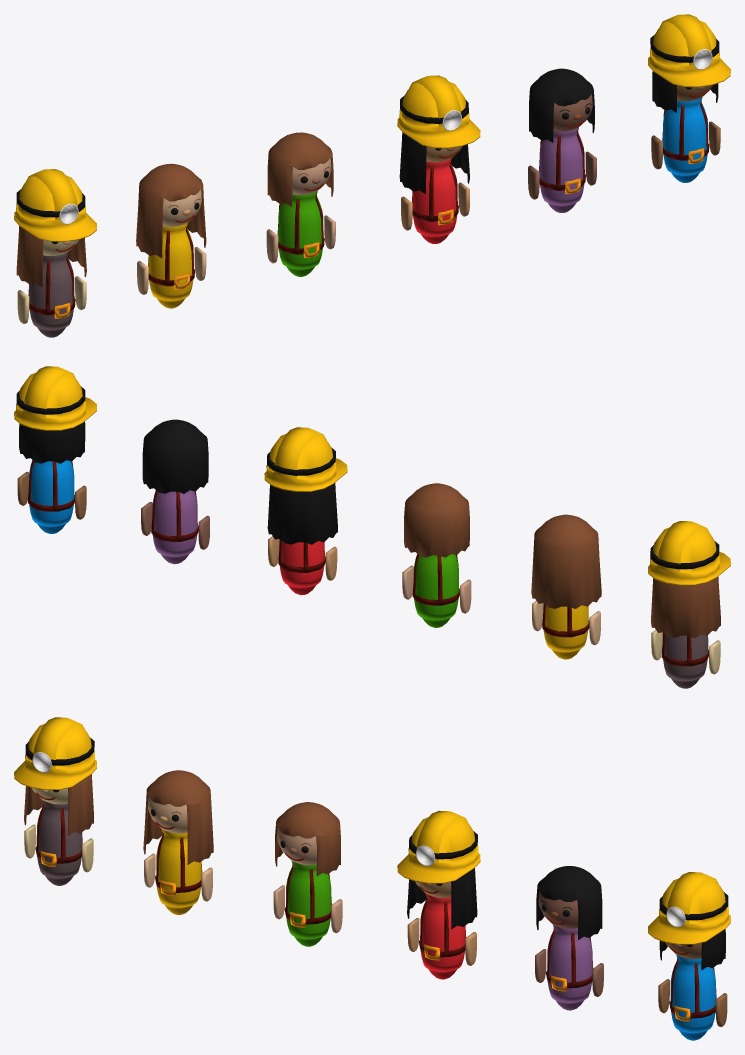
The model's file is Mineradoras.fbx.
The picture shows the model from 3 angles, top to bottom: view 1: azimuth 30°, elevation 25°; view 2: azimuth 150°, elevation 25°; view 3: azimuth 330°, elevation 25°; orthographic projection.
Parts seen in each view (by area): view 1: Mineradora 1, Mineradora 4, Mineradora 6, Mineradora 2, Mineradora 3, Mineradora 5; view 2: Mineradora 4, Mineradora 1, Mineradora 6, Mineradora 2, Mineradora 5, Mineradora 3; view 3: Mineradora 1, Mineradora 4, Mineradora 6, Mineradora 2, Mineradora 5, Mineradora 3.
Boxes of the visible parts, left/top/right/bottom form: Mineradora 1: left=14, top=169, right=96, bottom=337; Mineradora 4: left=397, top=75, right=480, bottom=243; Mineradora 6: left=648, top=14, right=730, bottom=182; Mineradora 2: left=136, top=163, right=206, bottom=308; Mineradora 3: left=266, top=132, right=335, bottom=276; Mineradora 5: left=528, top=68, right=596, bottom=212; Mineradora 4: left=264, top=427, right=347, bottom=595; Mineradora 1: left=648, top=521, right=730, bottom=688; Mineradora 6: left=14, top=366, right=96, bottom=533; Mineradora 2: left=531, top=514, right=601, bottom=659; Mineradora 5: left=141, top=419, right=209, bottom=564; Mineradora 3: left=402, top=483, right=471, bottom=627; Mineradora 1: left=14, top=717, right=96, bottom=885; Mineradora 4: left=397, top=810, right=480, bottom=979; Mineradora 6: left=648, top=872, right=730, bottom=1040; Mineradora 2: left=143, top=770, right=213, bottom=915; Mineradora 5: left=535, top=866, right=603, bottom=1010; Mineradora 3: left=273, top=802, right=342, bottom=946.
Bounding box in the file's own units: 3102 × 697 × 358.
Materials: 1 (1 with a texture image).
